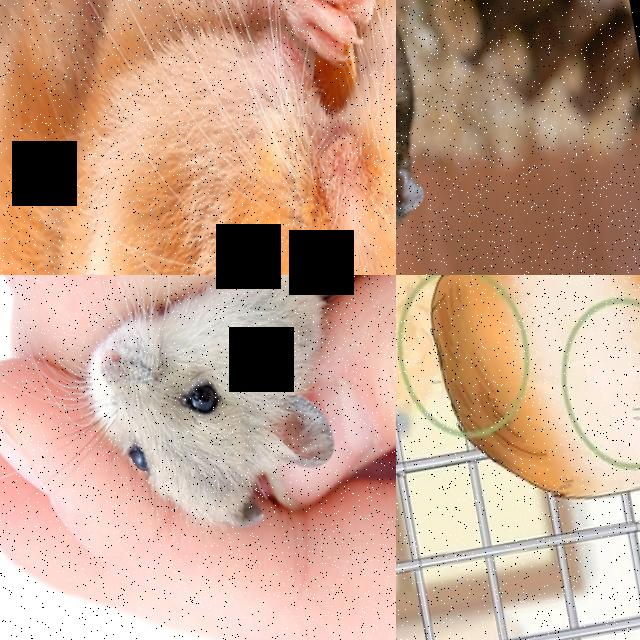hamster: (0, 0, 396, 275), (68, 275, 362, 551), (411, 275, 640, 525), (396, 0, 451, 275)
